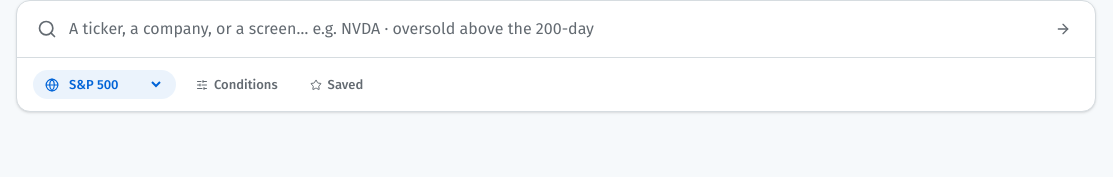
Test: SmartSearchBox routing › asks when a screen's rules map to no known primitive
Replace the text in the field with test id "smart-search-input" with "some weird screen phrase" at (554, 29), box [69,17,1039,41]
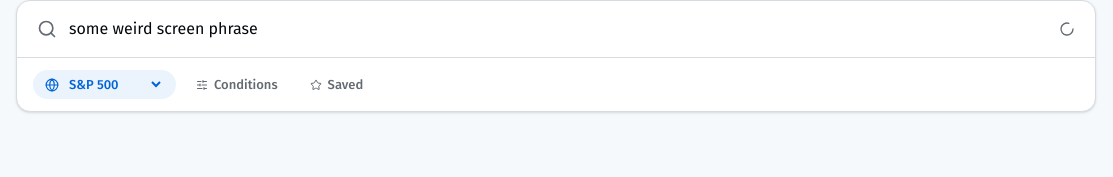
Press Enter in the field with test id "smart-search-input", box [69,17,1047,41]
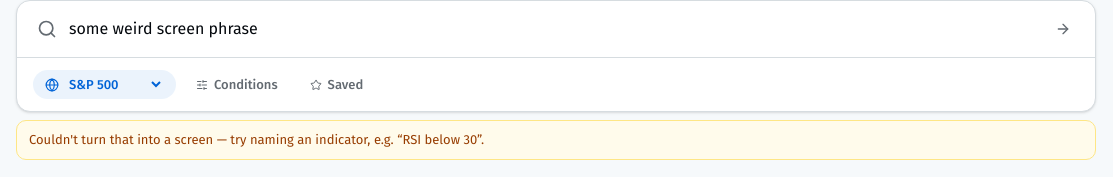
Expected: the text with test id "smart-search-note" is shown, [16,120,1096,160]
Expected: the text with test id "smart-search-note" shows "indicator", [29,132,484,147]
